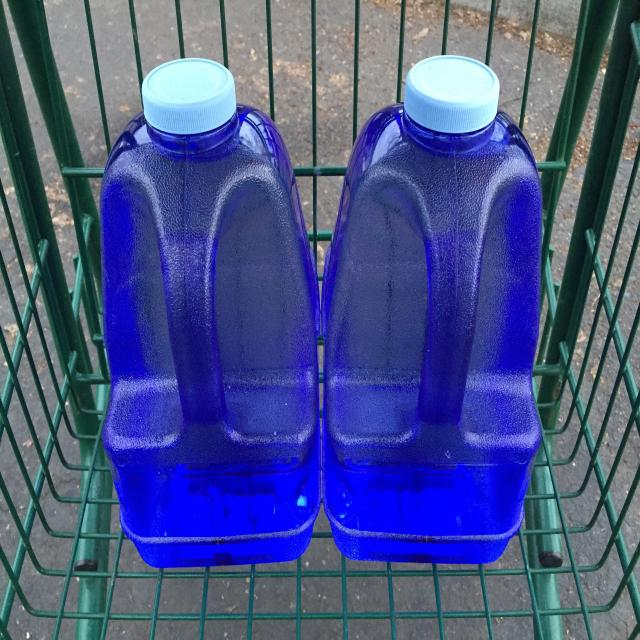plastic_bottle: (98, 56, 322, 568)
